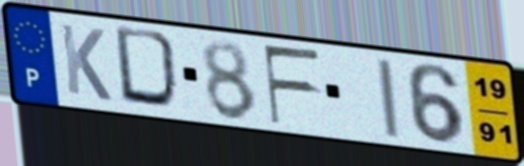6: (404, 62, 468, 148)
8: (199, 37, 260, 122)
D: (112, 23, 187, 114)
F: (260, 43, 324, 127)
I: (372, 56, 402, 141)
K: (57, 20, 115, 105)
